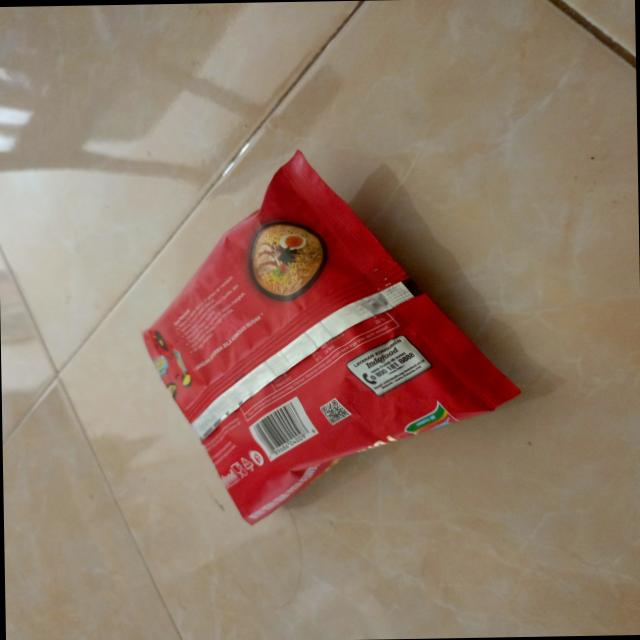indomie-tori-miso: (132, 146, 524, 528)
